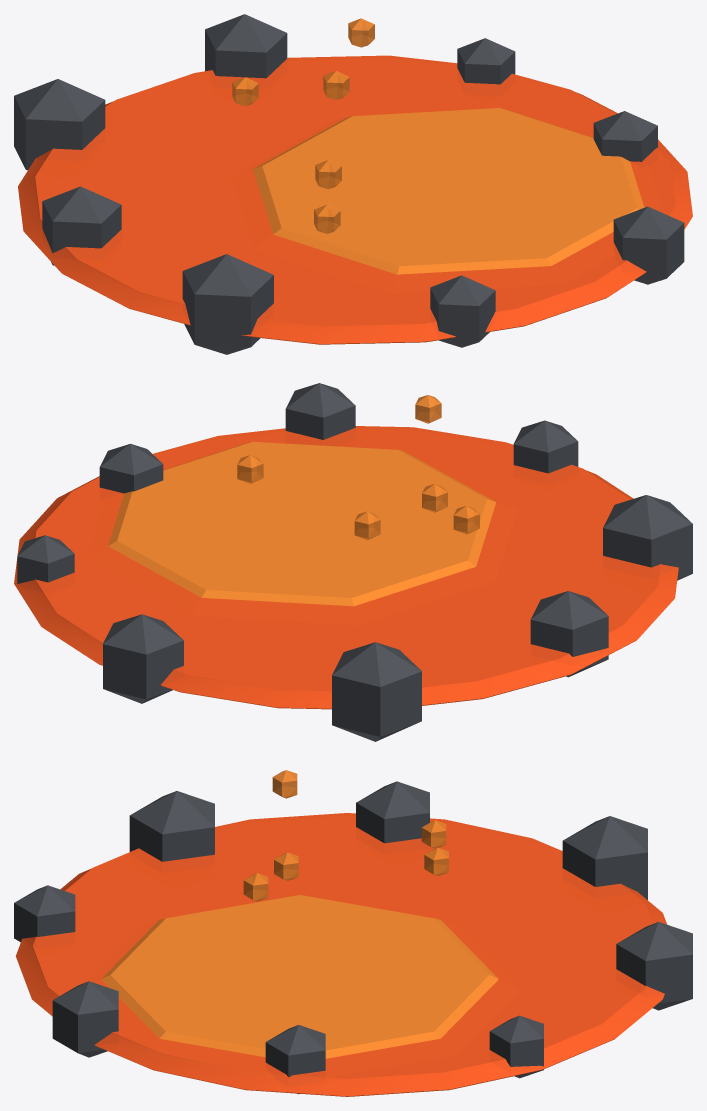
The model's file is lava_flow.glb.
3 renders of one model, top to bottom at view 1: azimuth 30°, elevation 25°; view 2: azimuth 150°, elevation 25°; view 3: azimuth 270°, elevation 25°, orthographic. The views are drawn at different scales.
Parts seen in each view (by area): view 1: pool, hot_core, crust_3, crust_5, crust_6, crust_1, crust_4, crust_2, crust_0, crust_7, bubble_3, bubble_0 (+3 smaller); view 2: pool, hot_core, crust_5, crust_6, crust_3, crust_4, crust_1, crust_2, crust_0, crust_7, bubble_3, bubble_4 (+3 smaller); view 3: pool, hot_core, crust_5, crust_3, crust_6, crust_1, crust_4, crust_2, crust_0, crust_7, bubble_4, bubble_0 (+3 smaller).
Part boxes in pixels (x1,y1,x2,y2): pool: (18, 55, 692, 344); hot_core: (253, 108, 644, 274); crust_3: (182, 254, 273, 354); crust_5: (14, 79, 105, 170); crust_6: (205, 14, 287, 78); crust_1: (613, 206, 684, 284); crust_4: (42, 186, 121, 265); crust_2: (430, 275, 495, 347); crust_0: (593, 111, 657, 161); crust_7: (457, 38, 515, 84); bubble_3: (348, 18, 374, 47); bubble_0: (314, 205, 340, 233); pool: (14, 426, 678, 709); hot_core: (108, 441, 496, 606); crust_5: (332, 642, 421, 741); crust_6: (103, 614, 183, 703); crust_3: (603, 495, 692, 580); crust_4: (530, 591, 608, 677); crust_1: (285, 383, 355, 439); crust_2: (513, 420, 578, 473); crust_0: (99, 443, 163, 493); crust_7: (17, 535, 74, 583); bubble_3: (237, 455, 263, 483); bubble_4: (415, 395, 441, 423); pool: (15, 813, 666, 1096); hot_core: (101, 895, 498, 1058); crust_5: (562, 816, 647, 899); crust_3: (129, 791, 214, 861); crust_6: (616, 922, 692, 1010); crust_1: (52, 981, 118, 1057); crust_4: (356, 781, 429, 843); crust_2: (14, 885, 75, 942); crust_0: (265, 1025, 325, 1094); crust_7: (489, 1015, 543, 1078); bubble_4: (272, 770, 297, 798); bubble_0: (243, 873, 268, 901).
Bounding box in the file's own units: 2.1 × 0.6925 × 2.15.
